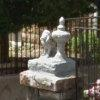Statue: (22, 14, 78, 91)
